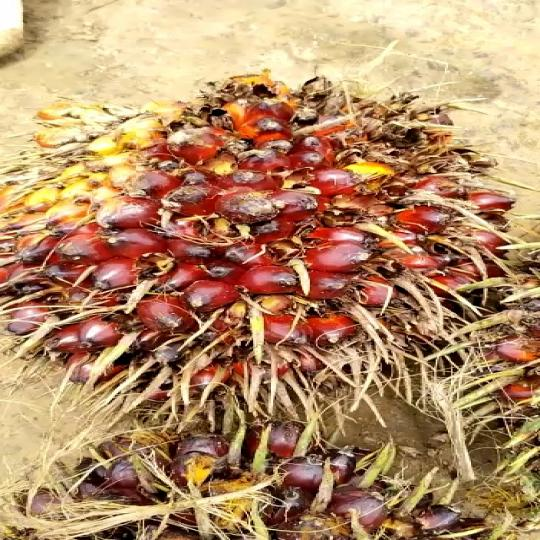masak: (23, 73, 524, 440)
